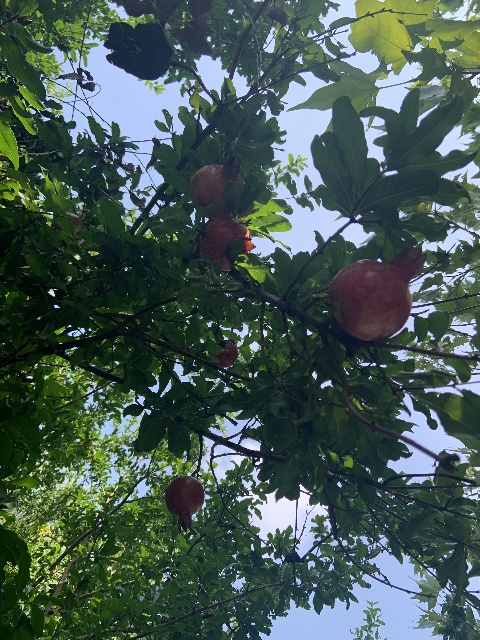ripe: (329, 245, 427, 341), (189, 155, 243, 217), (199, 217, 255, 270), (165, 475, 204, 532), (214, 340, 238, 367)
